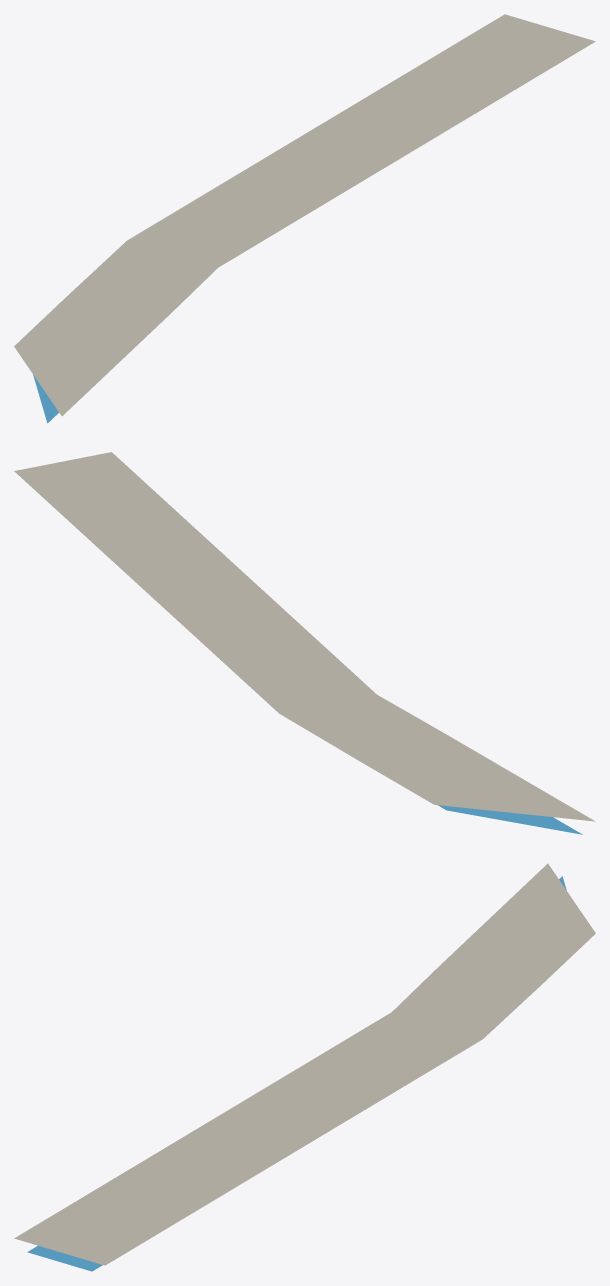
3 views of the same model, one above another, from view 1: azimuth 90°, elevation 25°; view 2: azimuth 150°, elevation 25°; view 3: azimuth 270°, elevation 25° (orthographic). The views are drawn at different scales.
Visible parts, largest first — view 1: estructura_terreno; view 2: estructura_terreno, estructura_agua; view 3: estructura_terreno, estructura_agua.
Boxes of the visible parts, x1,y1,x2,y2 form: estructura_terreno: [14, 14, 595, 415]; estructura_terreno: [14, 452, 595, 821]; estructura_agua: [437, 805, 582, 834]; estructura_terreno: [14, 863, 595, 1265]; estructura_agua: [27, 876, 566, 1271].
Size of the model in its own units: 35.84 by 0.41 by 21.91.
